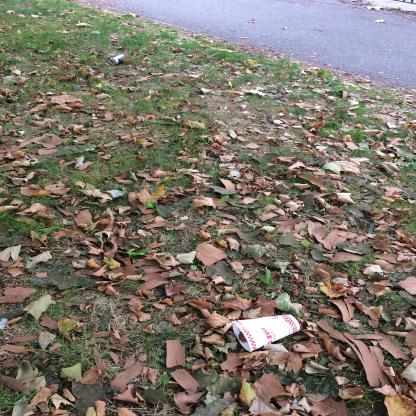karton: (230, 313, 302, 353)
